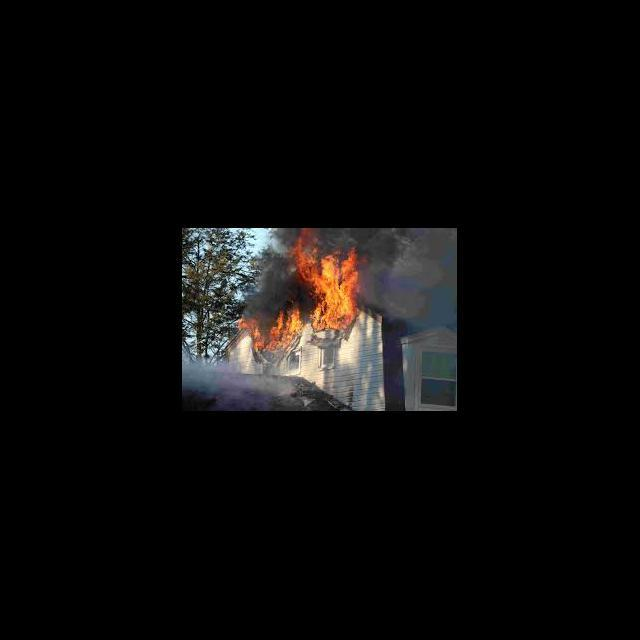Fire: (309, 250, 360, 332), (236, 311, 306, 355), (292, 228, 315, 282)
Smoke: (368, 228, 456, 322), (184, 368, 298, 410)
